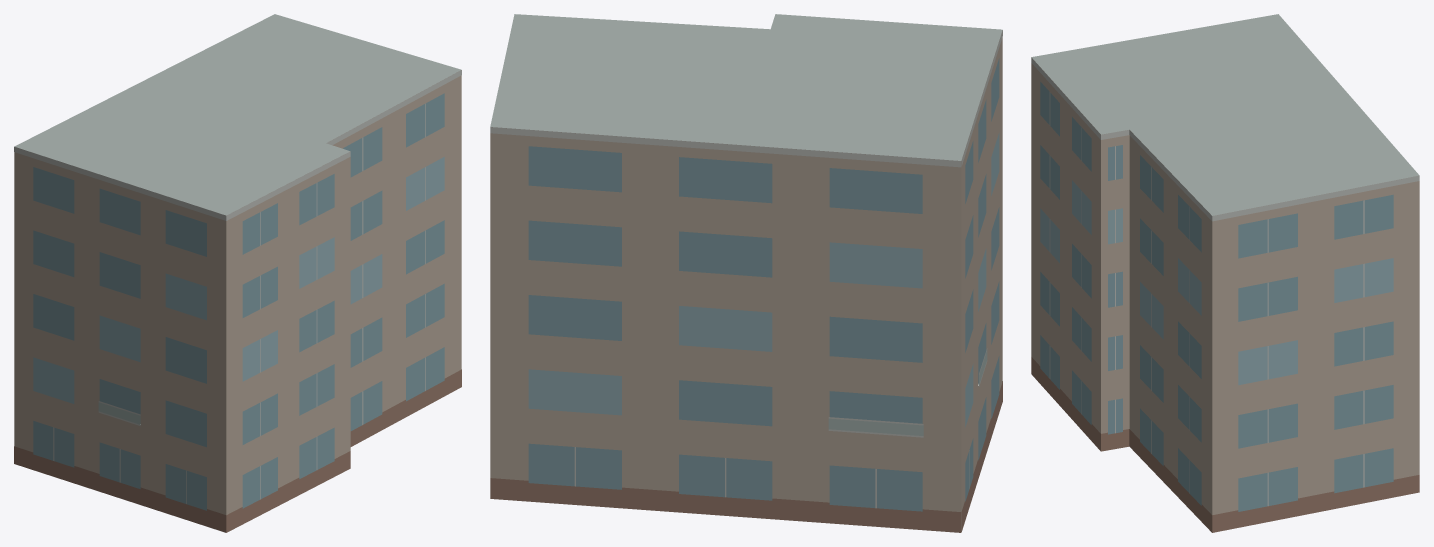
Rendered from survey-upis-32849682.glb.
3 renders of one model, left to right at view 1: azimuth 30°, elevation 25°; view 2: azimuth 150°, elevation 25°; view 3: azimuth 270°, elevation 25°, orthographic. The views are drawn at different scales.
Parts seen in each view (by area): view 1: survey-upis-32849682.tmp; view 2: survey-upis-32849682.tmp; view 3: survey-upis-32849682.tmp.
Boxes of the visible parts, x1=… form: survey-upis-32849682.tmp: x1=14, y1=14, x2=461, y2=532; survey-upis-32849682.tmp: x1=490, y1=14, x2=1002, y2=532; survey-upis-32849682.tmp: x1=1031, y1=14, x2=1419, y2=532.
Size of the model in its own units: 19.5 by 14.26 by 15.85.
